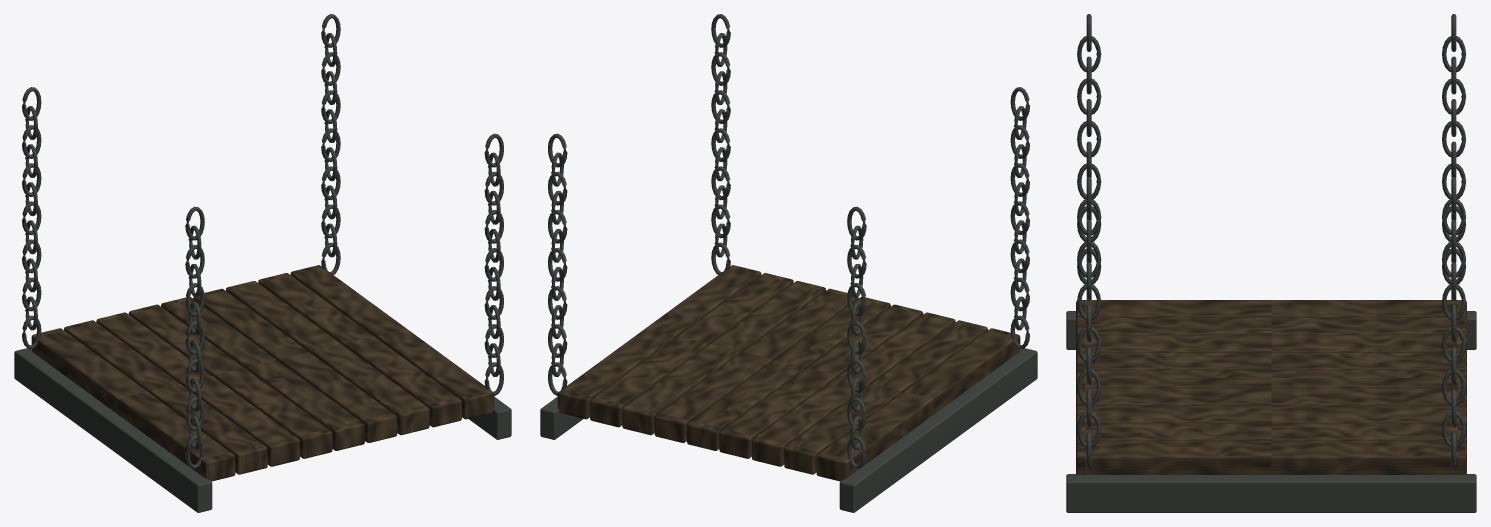
The model's file is C16_chain_lift.gltf.
3 renders of one model, left to right at view 1: azimuth 30°, elevation 25°; view 2: azimuth 150°, elevation 25°; view 3: azimuth 270°, elevation 25°, orthographic. The views are drawn at different scales.
Visible parts, largest first — view 1: Lift floorboard, Lift steel brace, Lift floorboard.007, Lift floorboard.006, Lift floorboard.008, Lift floorboard.005, Lift floorboard.003, Lift floorboard.004, Lift floorboard.001, Lift floorboard.002, Lift steel brace.001; view 2: Lift floorboard, Lift steel brace, Lift floorboard.007, Lift floorboard.006, Lift floorboard.008, Lift floorboard.005, Lift floorboard.003, Lift floorboard.002, Lift floorboard.004, Lift floorboard.001, Lift steel brace.001; view 3: Lift steel brace.001, Lift floorboard.008, Lift floorboard.003, Lift floorboard.001, Lift floorboard.006, Lift floorboard.007, Lift floorboard.002, Lift floorboard, Lift floorboard.005, Lift floorboard.004, Lift steel brace.
Part boxes in pixels (bbox=[...]): Lift floorboard: bbox=[31, 328, 235, 481]; Lift steel brace: bbox=[14, 348, 212, 512]; Lift floorboard.007: bbox=[258, 273, 461, 427]; Lift floorboard.006: bbox=[226, 281, 429, 435]; Lift floorboard.008: bbox=[290, 265, 494, 419]; Lift floorboard.005: bbox=[193, 288, 397, 442]; Lift floorboard.003: bbox=[128, 304, 332, 458]; Lift floorboard.004: bbox=[161, 296, 364, 450]; Lift floorboard.001: bbox=[64, 320, 267, 474]; Lift floorboard.002: bbox=[96, 312, 299, 466]; Lift steel brace.001: bbox=[469, 397, 511, 439]; Lift floorboard: bbox=[816, 328, 1020, 481]; Lift steel brace: bbox=[839, 348, 1037, 512]; Lift floorboard.007: bbox=[590, 273, 793, 427]; Lift floorboard.006: bbox=[622, 281, 825, 435]; Lift floorboard.008: bbox=[557, 265, 761, 419]; Lift floorboard.005: bbox=[654, 288, 858, 442]; Lift floorboard.003: bbox=[719, 304, 923, 458]; Lift floorboard.002: bbox=[752, 312, 955, 466]; Lift floorboard.004: bbox=[687, 296, 890, 450]; Lift floorboard.001: bbox=[784, 320, 987, 474]; Lift steel brace.001: bbox=[540, 397, 582, 439]; Lift steel brace.001: bbox=[1066, 474, 1476, 512]; Lift floorboard.008: bbox=[1076, 441, 1466, 474]; Lift floorboard.003: bbox=[1076, 352, 1466, 372]; Lift floorboard.001: bbox=[1076, 317, 1466, 336]; Lift floorboard.006: bbox=[1076, 405, 1466, 424]; Lift floorboard.007: bbox=[1076, 423, 1466, 442]; Lift floorboard.002: bbox=[1076, 335, 1466, 354]; Lift floorboard: bbox=[1076, 300, 1466, 319]; Lift floorboard.005: bbox=[1076, 388, 1466, 407]; Lift floorboard.004: bbox=[1076, 370, 1466, 389]; Lift steel brace: bbox=[1066, 311, 1476, 349].
Bounding box in the file's own units: 3.14 × 2.81 × 3.15.
Materials: 2 (1 with a texture image).
